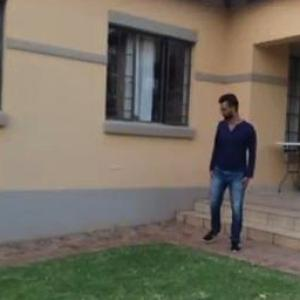follow: (205, 83, 256, 262)
